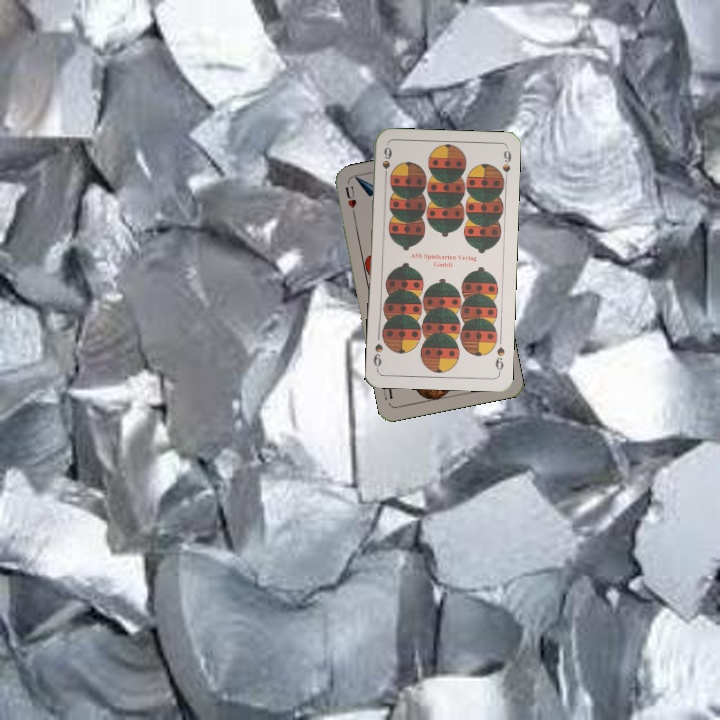HU: (341, 182, 359, 220)
S9: (378, 143, 394, 183), (492, 343, 507, 376)
